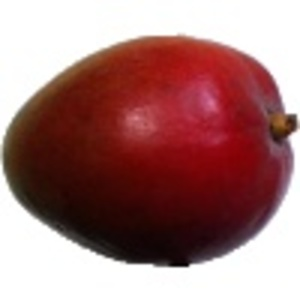manga: (1, 33, 300, 267)
